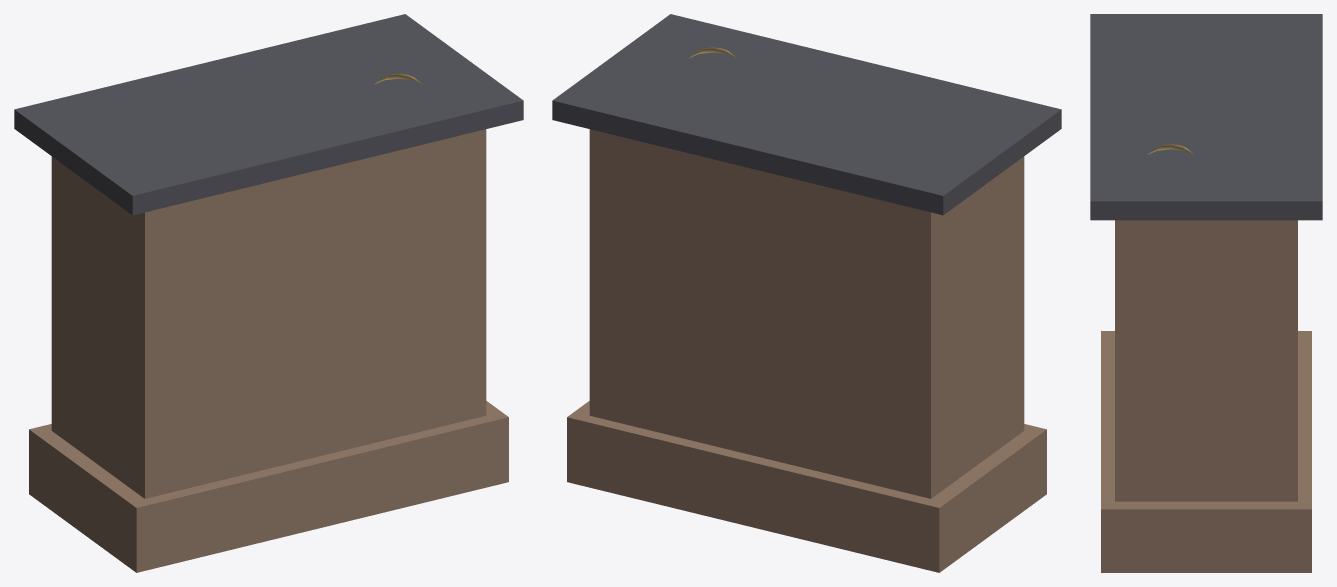
File: casHostess.glb
3 views of the same model, side by side, from view 1: azimuth 30°, elevation 25°; view 2: azimuth 150°, elevation 25°; view 3: azimuth 270°, elevation 25° (orthographic).
Parts seen in each view (by area): view 1: hostess-stand; view 2: hostess-stand; view 3: hostess-stand.
Part boxes in pixels (box(x1,y1,x2,y2)): hostess-stand: box(14, 14, 523, 572); hostess-stand: box(552, 14, 1061, 572); hostess-stand: box(1090, 14, 1322, 572).
Size of the model in its own units: 1.26 by 1.21 by 0.6601.
